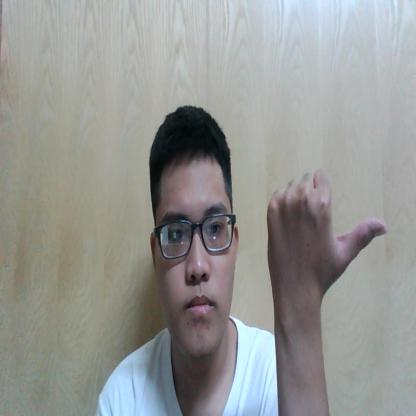left: (266, 162, 386, 309)
